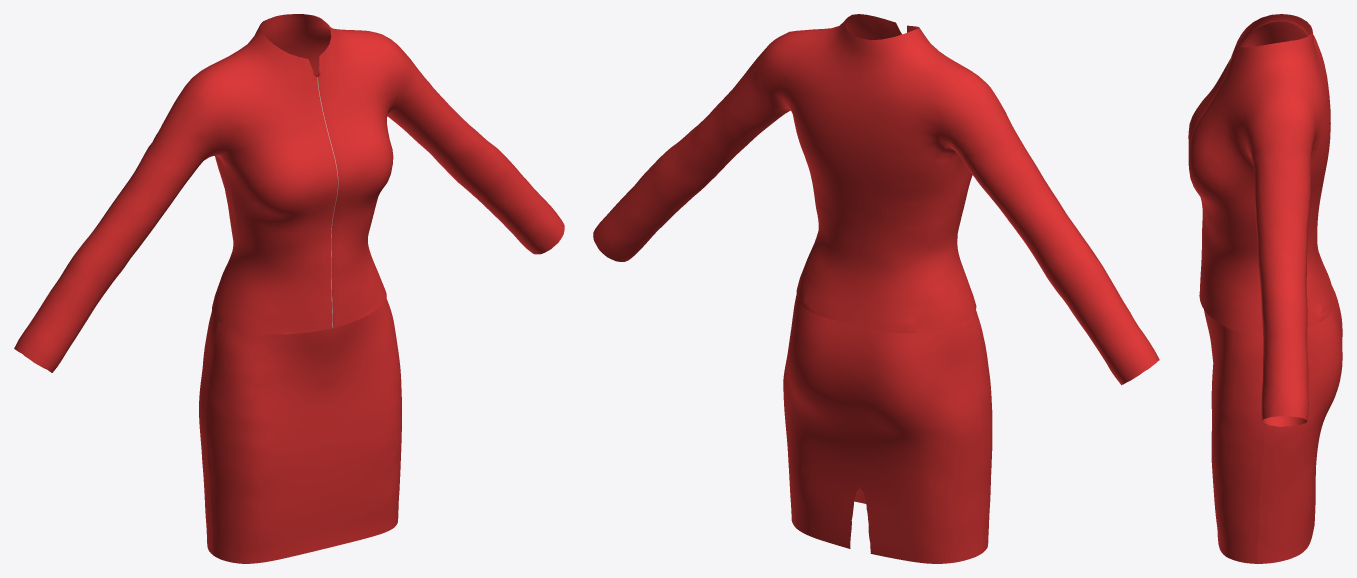
File: Jacket and Skirt.obj
3 renders of one model, left to right at view 1: azimuth 30°, elevation 25°; view 2: azimuth 150°, elevation 25°; view 3: azimuth 270°, elevation 25°, orthographic. The views are drawn at different scales.
Visible parts, largest first — view 1: Jacket_, Skirt; view 2: Jacket_, Skirt; view 3: Jacket_, Skirt.
Part boxes in pixels (x1,y1,x2,y2): Jacket_: [14, 14, 564, 372]; Skirt: [199, 298, 401, 563]; Jacket_: [593, 14, 1159, 385]; Skirt: [783, 295, 992, 563]; Jacket_: [1188, 14, 1332, 426]; Skirt: [1204, 286, 1342, 563].
Bounding box in the file's own units: 38.09 × 33.52 × 9.5.
